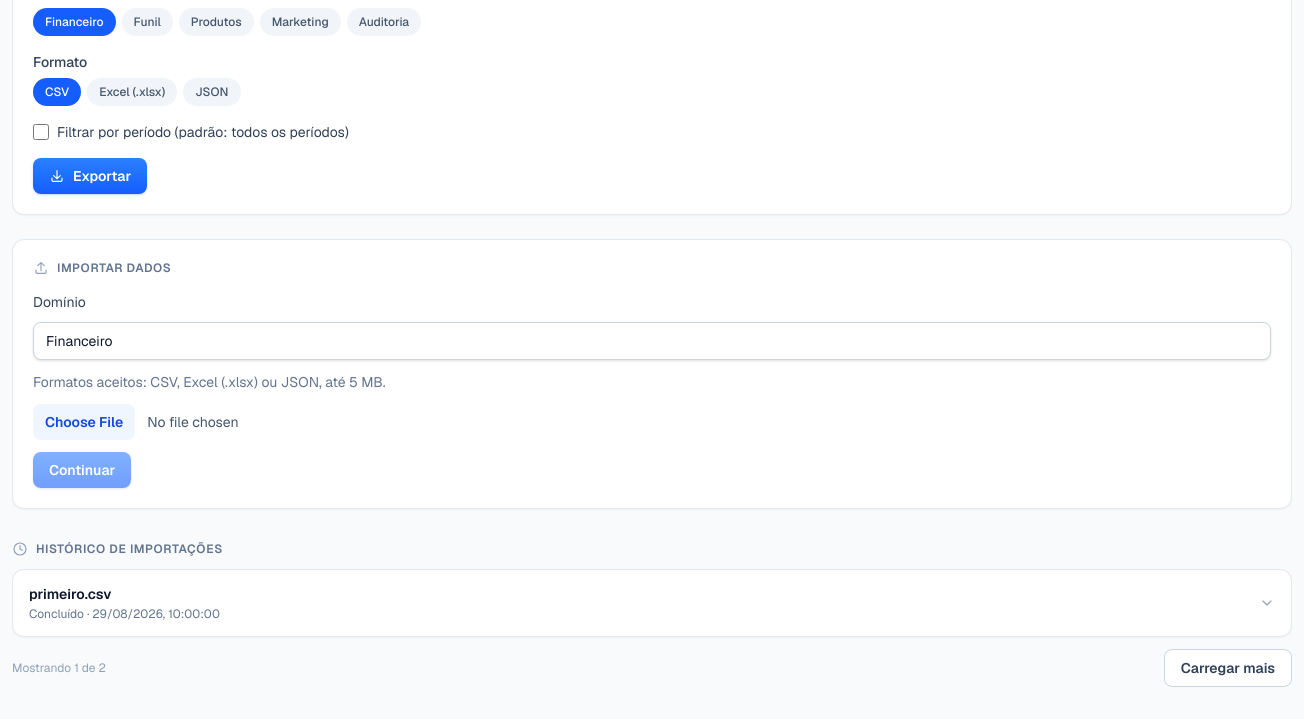
CentralDeDadosPage › 'Carregar mais' soma a próxima página ao histórico
This screenshot has width=1304, height=719.
(page scrolled)
Expected: the text "primeiro.csv" is shown, [29,585,111,603]
Expected: the text "Mostrando 1 de 2" is shown, [12,660,106,676]
Step 1. Click the button "Carregar mais" → (1228, 668), box [1164,649,1292,687]
(page scrolled)
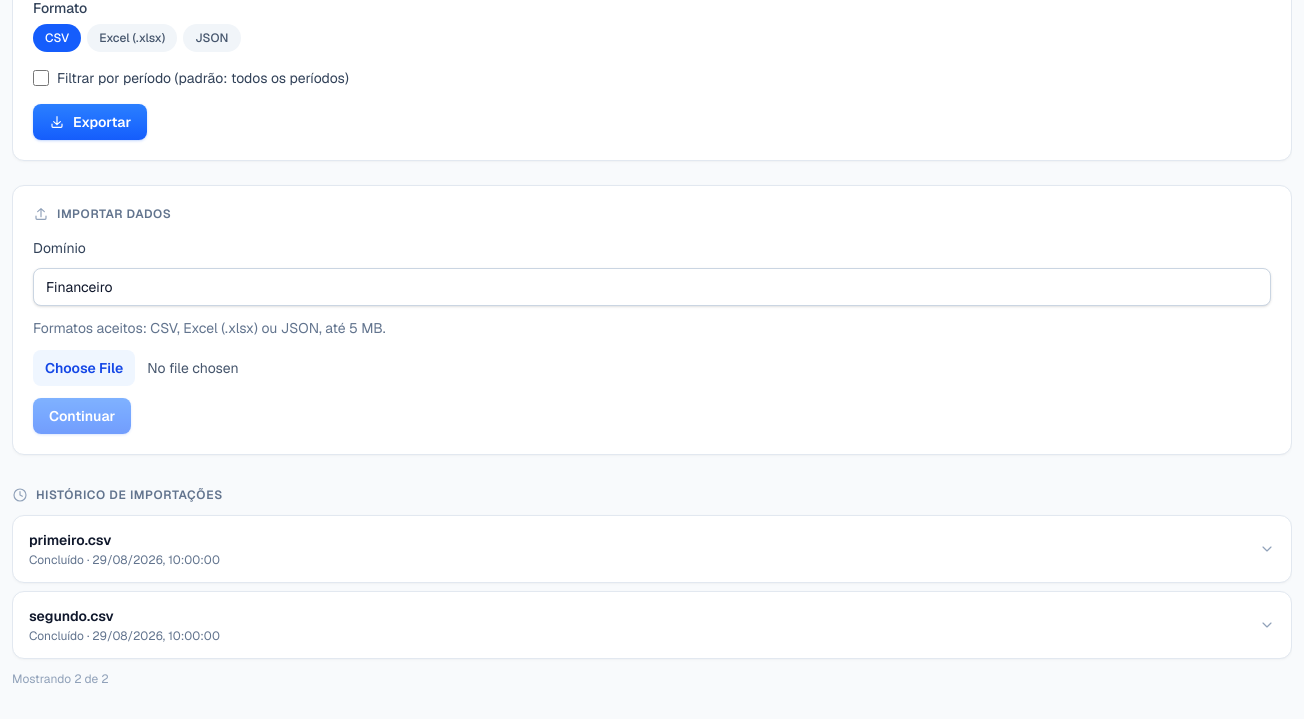
Expected: the text "primeiro.csv" is shown, [29,531,111,549]
Expected: the text "segundo.csv" is shown, [29,607,114,625]
Expected: the text "Mostrando 2 de 2" is shown, [12,671,109,687]
